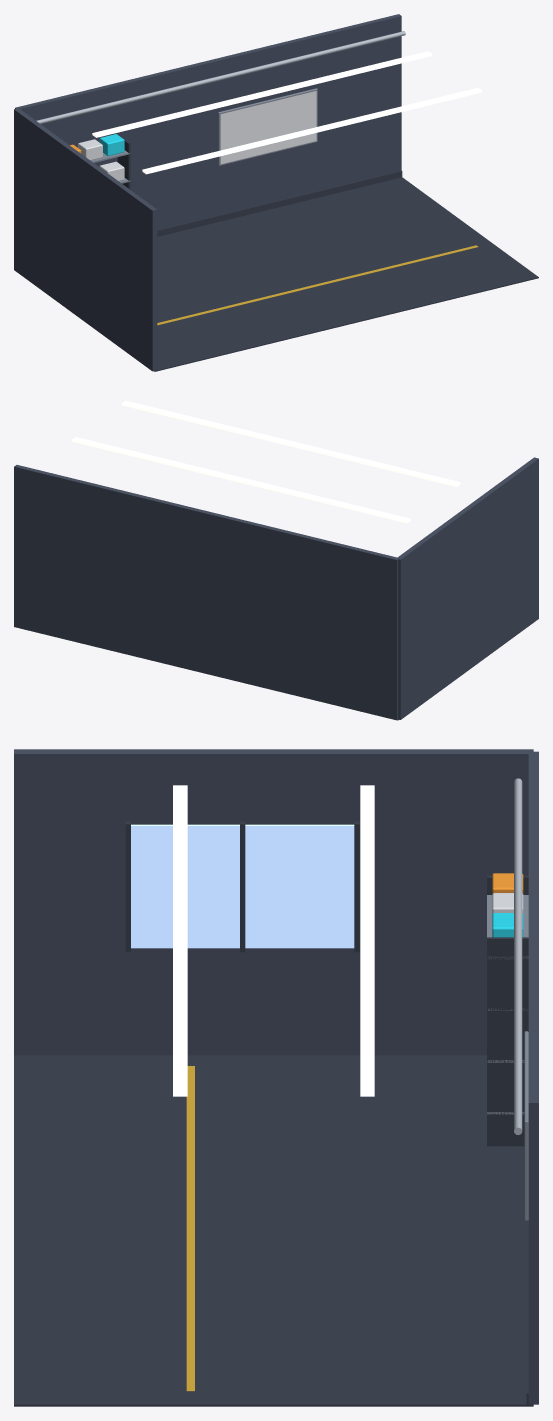
File: labRoom.glb
3 views of the same model, one above another, from view 1: azimuth 30°, elevation 25°; view 2: azimuth 150°, elevation 25°; view 3: azimuth 270°, elevation 25° (orthographic). The views are drawn at different scales.
Parts seen in each view (by area): view 1: floor, backWall, sideWall, board, ceilingLights, pipe, skirting, floorLines, boardFrame, shelves, box32; view 2: backWall, sideWall, ceilingLights; view 3: floor, sideWall, window, ceilingLights, shelves, backWall, pipe, floorLines, labRoom, boardFrame.
Part boxes in pixels (x1,y1,x2,y2): floor: (154, 177, 538, 371); backWall: (15, 14, 401, 230); sideWall: (14, 108, 157, 371); board: (220, 91, 316, 164); ceilingLights: (92, 51, 482, 174); pipe: (36, 31, 405, 123); skirting: (157, 171, 402, 236); floorLines: (157, 245, 478, 325); boardFrame: (218, 88, 317, 165); shelves: (91, 135, 130, 189); box32: (99, 134, 124, 156); backWall: (14, 465, 398, 720); sideWall: (396, 457, 538, 719); ceilingLights: (72, 400, 460, 523); floor: (14, 1055, 533, 1406); sideWall: (14, 749, 533, 1055); window: (131, 824, 354, 948); ceilingLights: (173, 785, 374, 1096); shelves: (487, 875, 528, 1146); backWall: (528, 751, 538, 1404); pipe: (514, 778, 522, 1134); floorLines: (186, 1066, 194, 1391); labRoom: (125, 821, 359, 952); boardFrame: (524, 1031, 528, 1220).
Bounding box in the file's own units: 8.05 × 3.22 × 5.05.
